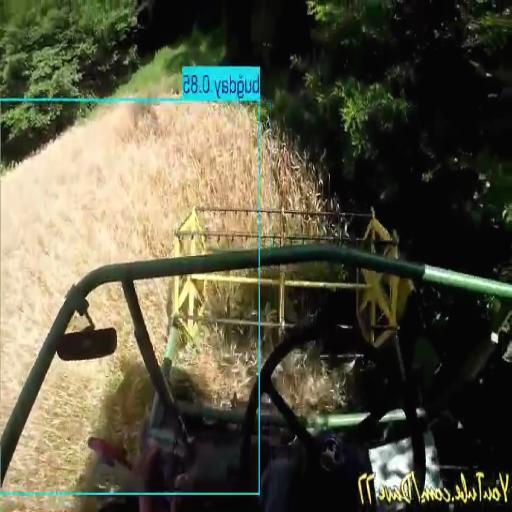bugday: (1, 105, 257, 427), (5, 284, 140, 490), (261, 140, 318, 209)
